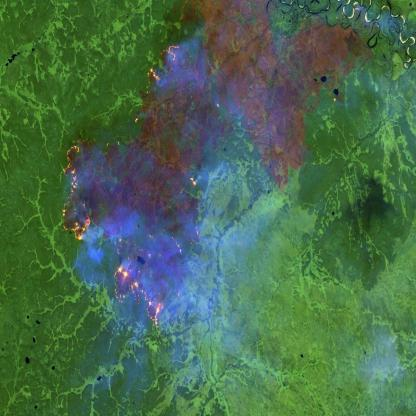fire: (55, 36, 218, 341)
